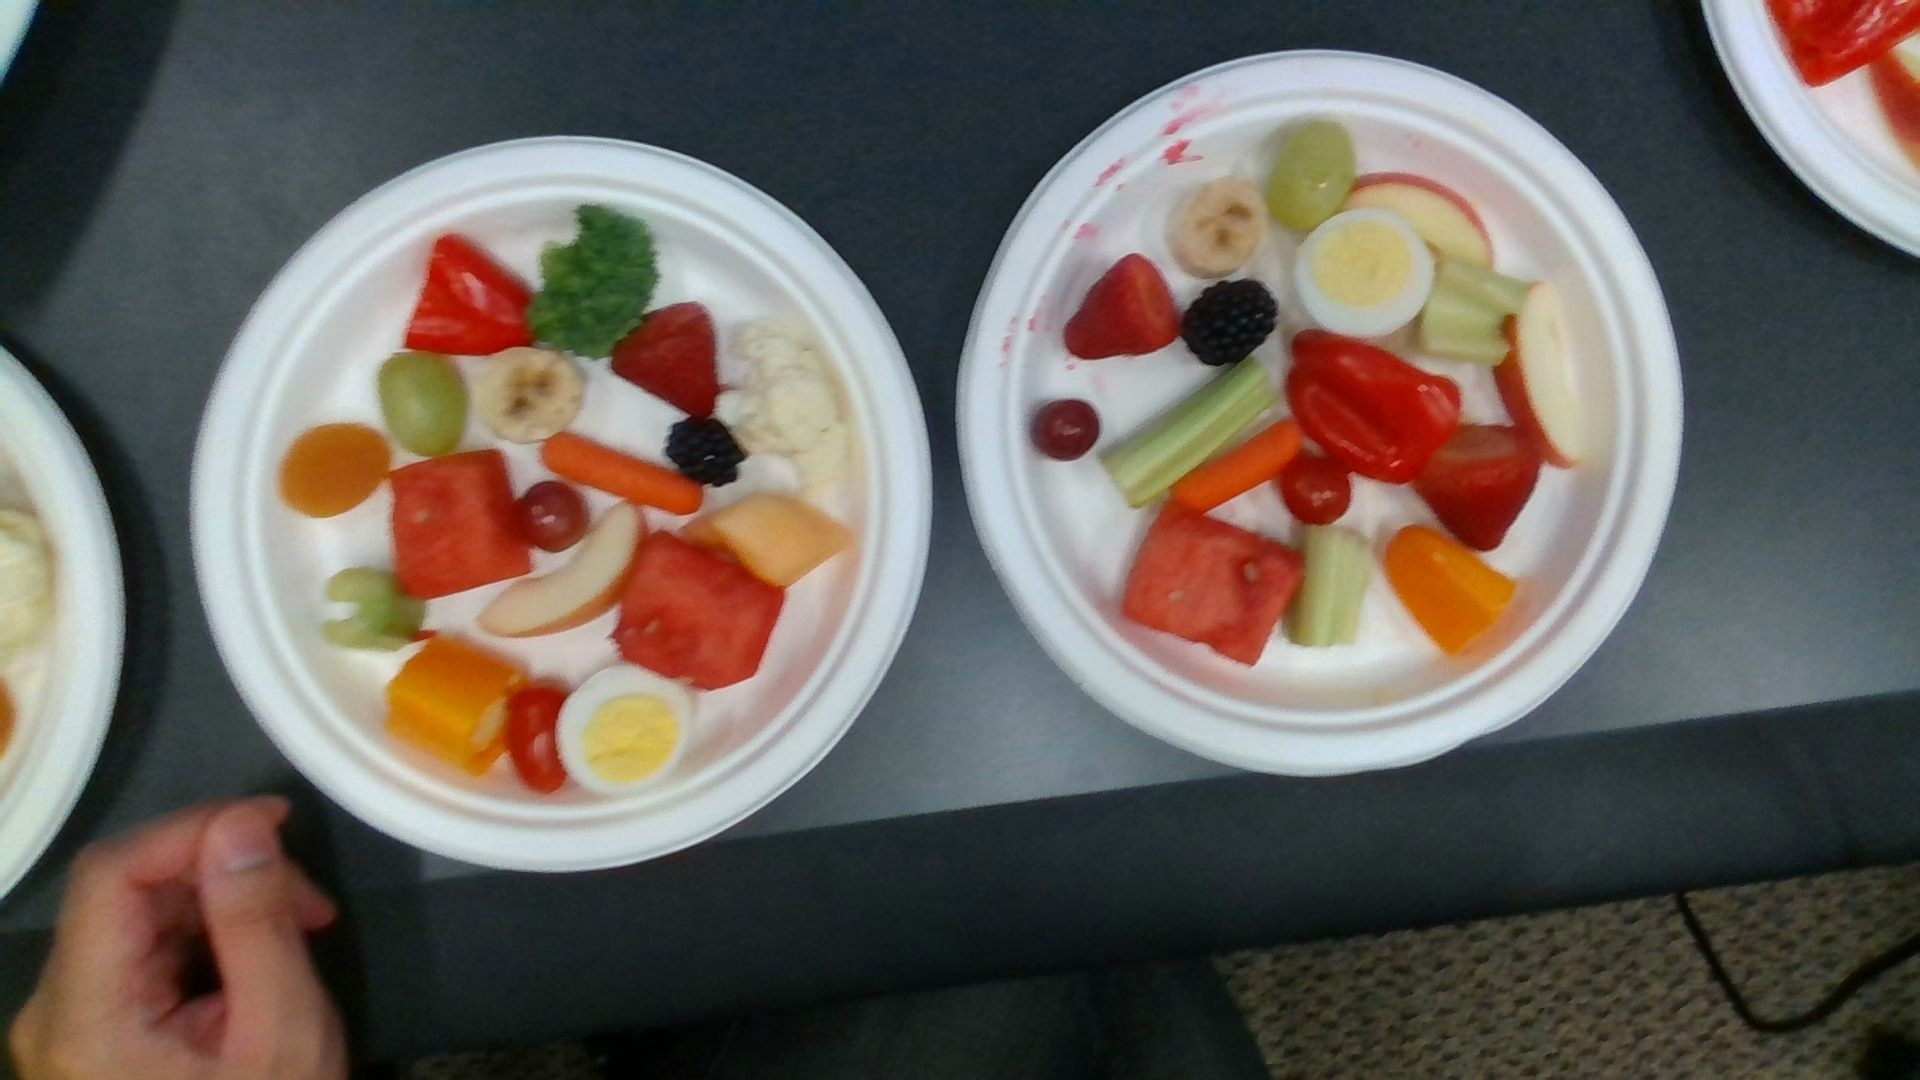apple: (480, 502, 642, 630), (1495, 281, 1585, 462), (1338, 175, 1491, 280)
apricot: (277, 425, 392, 518)
banana: (480, 349, 585, 443), (1175, 170, 1267, 276)
bell_pepper: (1284, 330, 1458, 481), (385, 640, 531, 771), (1385, 526, 1516, 653), (407, 236, 531, 353)
blackberry: (1185, 280, 1276, 365), (665, 413, 745, 487)
broccoli: (530, 200, 657, 353)
cantalope: (687, 496, 852, 580)
carrot: (542, 430, 700, 512), (1172, 418, 1305, 512)
cauliflower: (729, 320, 855, 487)
celery: (1102, 361, 1274, 506), (1288, 521, 1374, 647), (1427, 255, 1522, 363), (320, 568, 419, 651)
cherry_tomato: (509, 680, 570, 791), (1280, 451, 1350, 526)
egg: (555, 669, 698, 791), (1299, 210, 1433, 338)
grape_green: (380, 356, 464, 451), (1275, 125, 1352, 229)
grape_purple: (517, 485, 589, 551), (1035, 398, 1102, 462)
melon: (1127, 506, 1304, 665), (620, 533, 782, 690), (394, 451, 529, 596)
strawberry: (1419, 426, 1539, 550), (1064, 258, 1178, 356), (615, 306, 717, 413)
